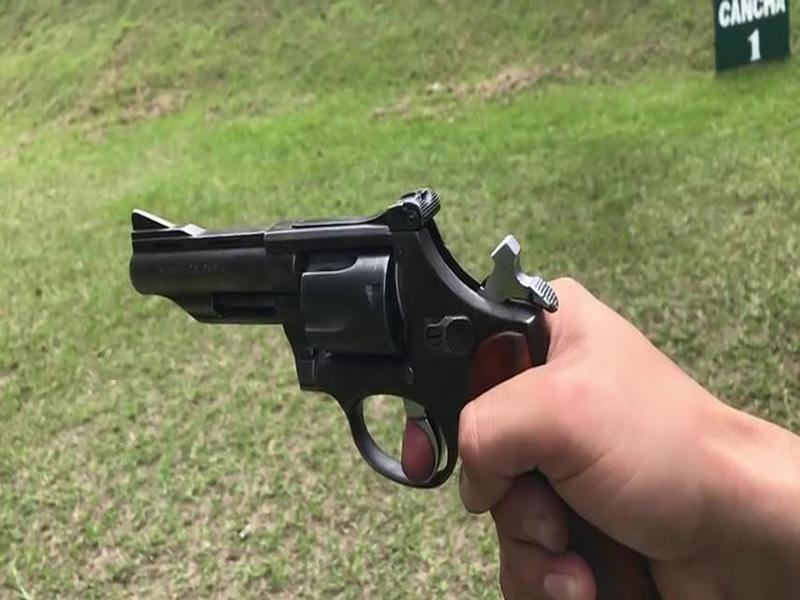Revolver: (124, 181, 561, 503)
